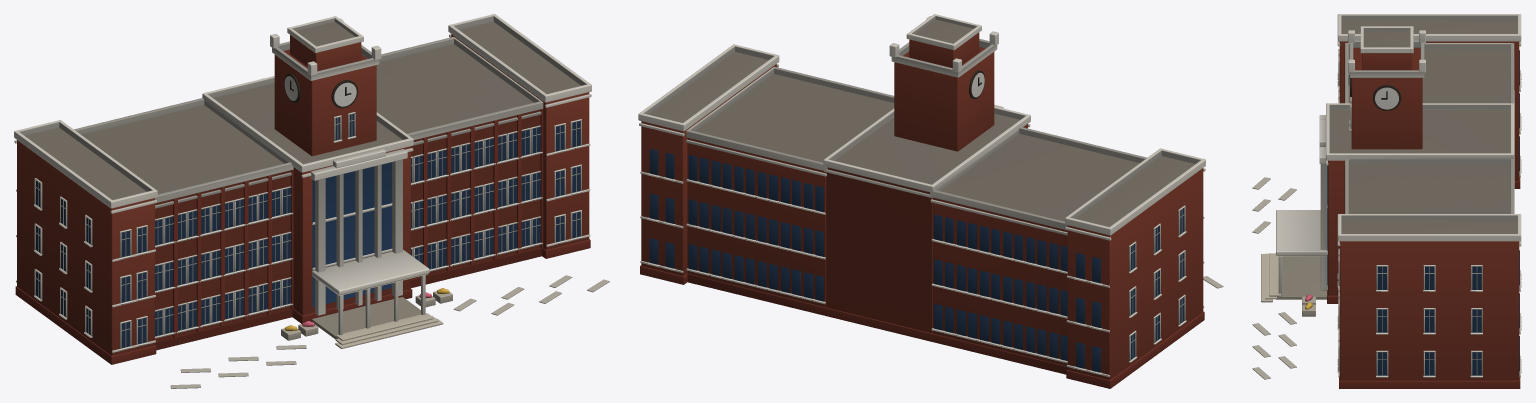
The model's file is hall.glb.
3 views of the same model, side by side, from view 1: azimuth 30°, elevation 25°; view 2: azimuth 150°, elevation 25°; view 3: azimuth 270°, elevation 25° (orthographic). The views are drawn at different scales.
Parts seen in each view (by area): view 1: LM_hall; view 2: LM_hall; view 3: LM_hall.
Boxes of the visible parts, x1,y1,x2,y2 form: LM_hall: [14, 14, 609, 388]; LM_hall: [638, 14, 1223, 388]; LM_hall: [1252, 14, 1521, 388].
Size of the model in its own units: 44.36 by 22.52 by 22.76.
